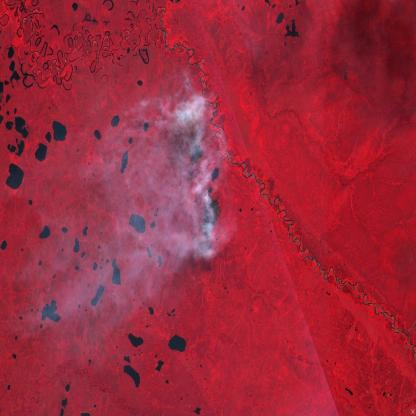fire: (190, 186, 222, 263)
